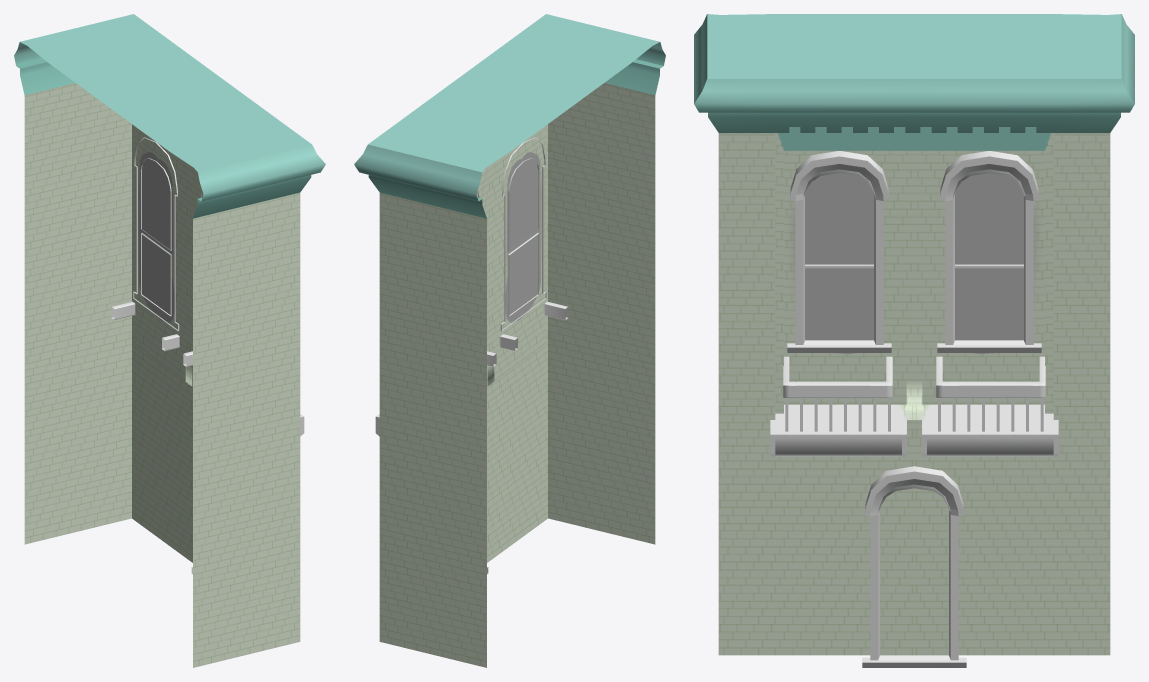
Rendered from B_House_C.fbx.
3 renders of one model, left to right at view 1: azimuth 30°, elevation 25°; view 2: azimuth 150°, elevation 25°; view 3: azimuth 270°, elevation 25°, orthographic. The views are drawn at different scales.
Visible parts, largest first — view 1: House_C; view 2: House_C; view 3: House_C.
Boxes of the visible parts, box(x1,y1,x2,y2) form: House_C: box(14, 14, 325, 667); House_C: box(354, 14, 665, 667); House_C: box(694, 14, 1134, 667).
Size of the model in its own units: 159 by 581 by 392.
